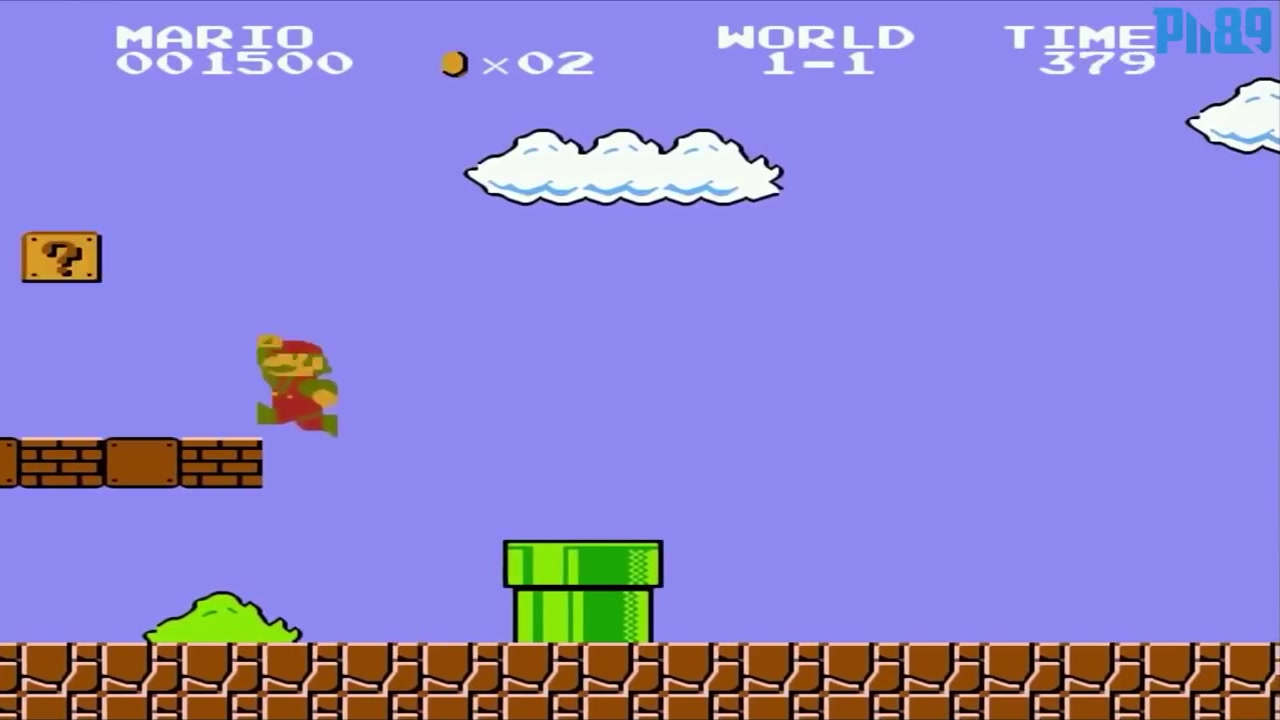mario: (244, 331, 346, 438)
